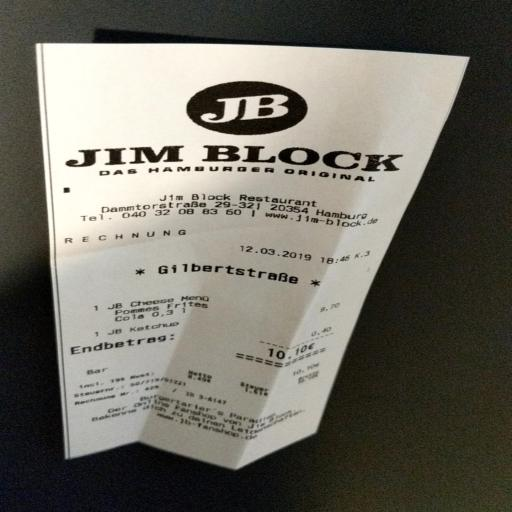paper: (13, 14, 476, 482)
